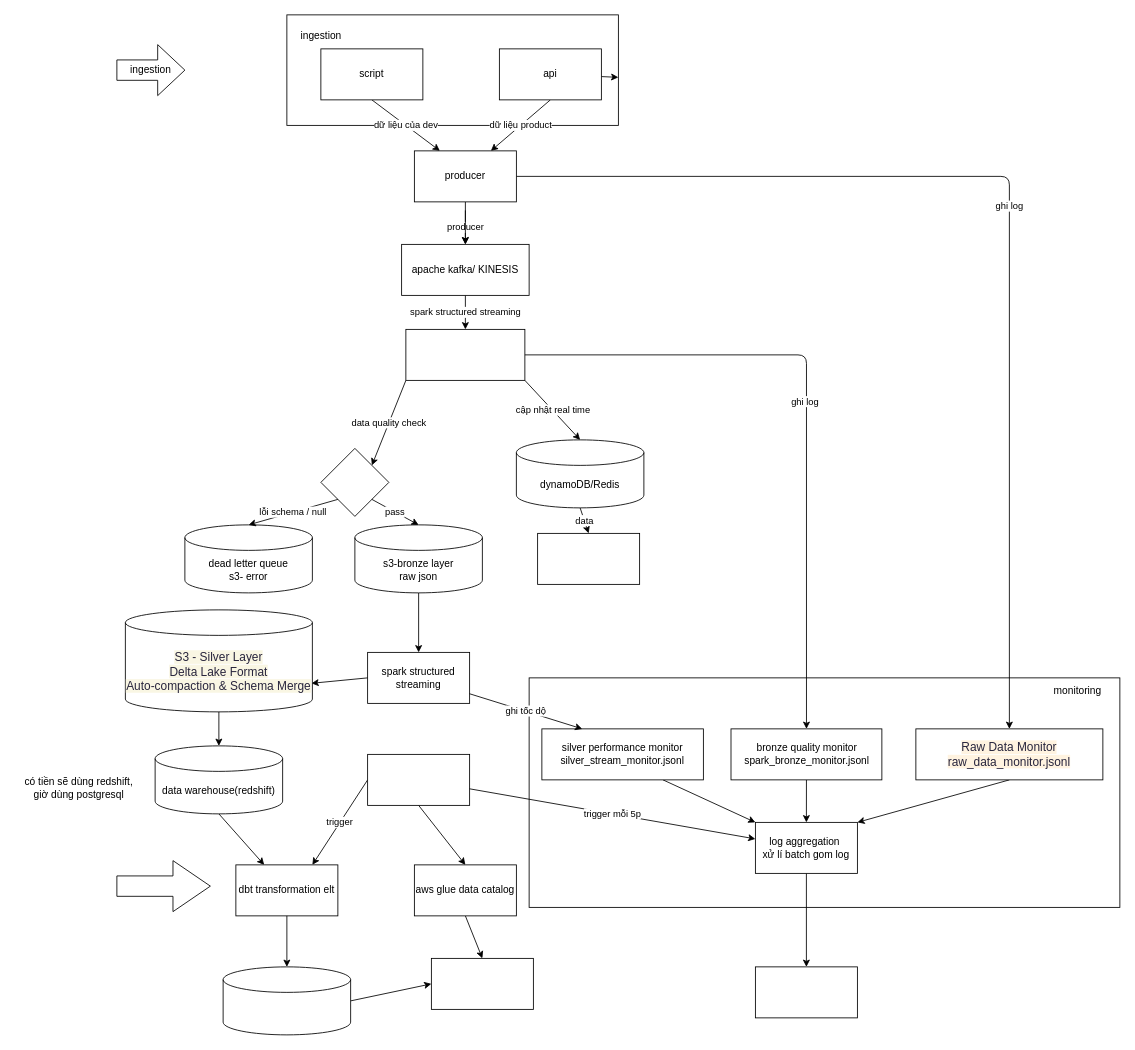
Some shapes in this 1135 by 1050 pixel diagram are drawn without their labels. The centre of each missing label's shape, as x and y in pixels:
"airflow" belongs at (x=418, y=779).
"check dữ liệu" belongs at (x=354, y=482).
"data modeling" belongs at (x=163, y=886).
"data warehouse (gold+fact+dimtable)" belongs at (x=286, y=1000).
"powerbi" belongs at (x=482, y=983).
"pyspark streaming job (kafka to bronze)" belongs at (x=465, y=354).
"real time dashboard" belongs at (x=588, y=558).
"streamlit web dashboard" belongs at (x=806, y=992).
